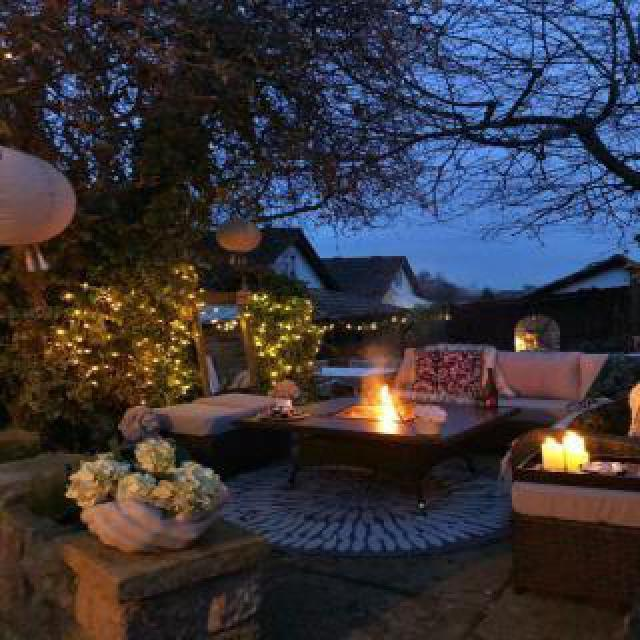fire: (358, 376, 418, 434)
